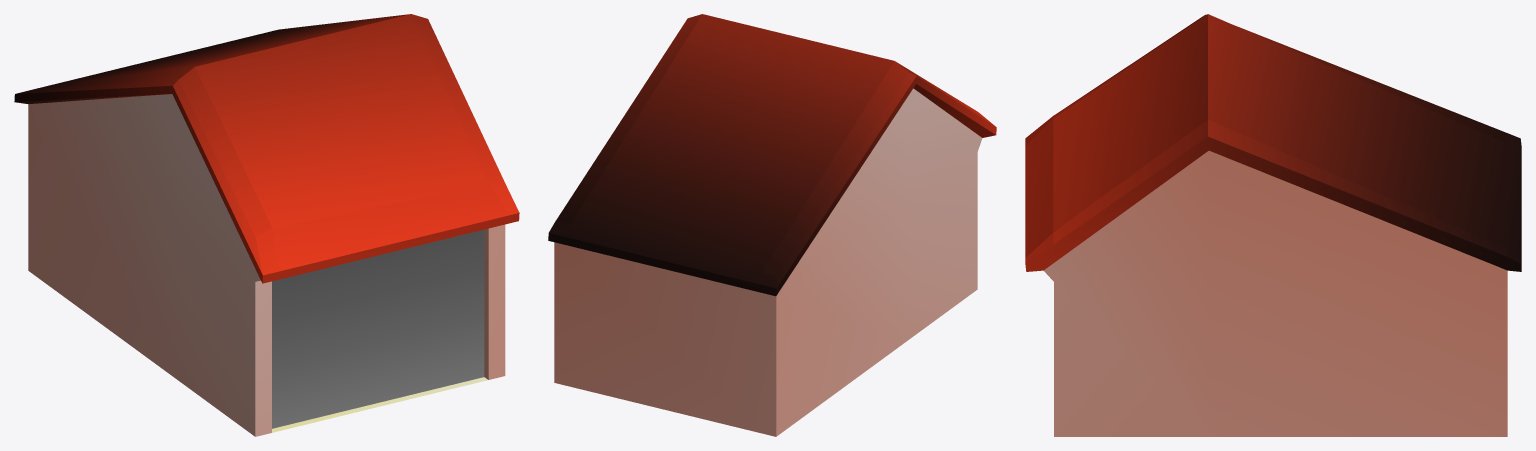
Rendered from SM_Street_House_F1_ONLY_High_Connect.fbx.
3 views of the same model, side by side, from view 1: azimuth 30°, elevation 25°; view 2: azimuth 150°, elevation 25°; view 3: azimuth 270°, elevation 25° (orthographic). The views are drawn at different scales.
Parts seen in each view (by area): view 1: Street_House_F1_ONLY_High_Connect_mash.; view 2: Street_House_F1_ONLY_High_Connect_mash.; view 3: Street_House_F1_ONLY_High_Connect_mash..
Part boxes in pixels (x1,y1,x2,y2): Street_House_F1_ONLY_High_Connect_mash.: (14,14,519,436); Street_House_F1_ONLY_High_Connect_mash.: (548,14,996,436); Street_House_F1_ONLY_High_Connect_mash.: (1025,14,1521,436).
Size of the model in its own units: 4.11 by 4.74 by 6.89.
